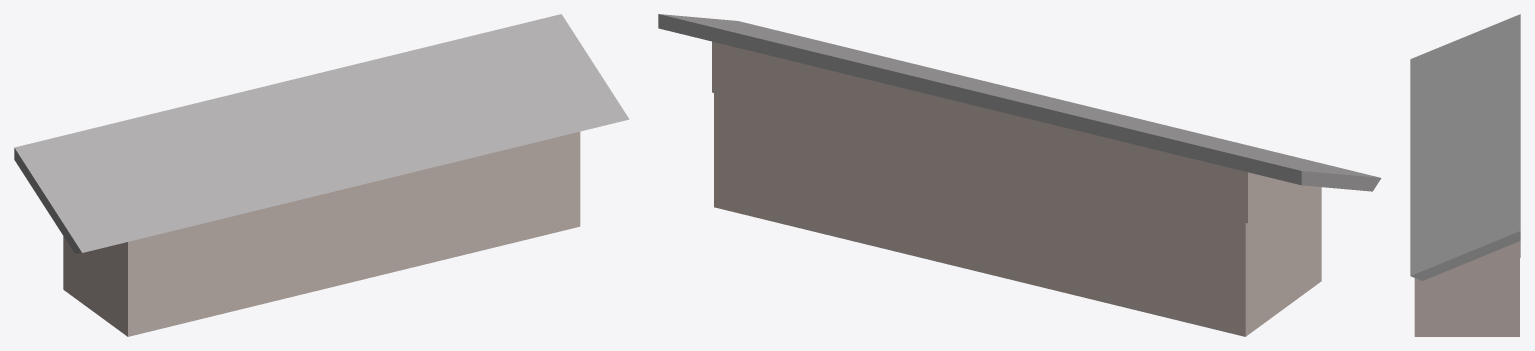
The model's file is Maintenance.glb.
The picture shows the model from 3 angles, left to right: view 1: azimuth 30°, elevation 25°; view 2: azimuth 150°, elevation 25°; view 3: azimuth 270°, elevation 25°; orthographic projection. The views are drawn at different scales.
Visible parts, largest first — view 1: mergedBlocks; view 2: mergedBlocks; view 3: mergedBlocks.
Boxes of the visible parts, <box> form: mergedBlocks: <box>14,14,629,336</box>; mergedBlocks: <box>658,14,1381,336</box>; mergedBlocks: <box>1410,14,1520,336</box>.
Bounding box in the file's own units: 4.88 × 1.31 × 1.05.
